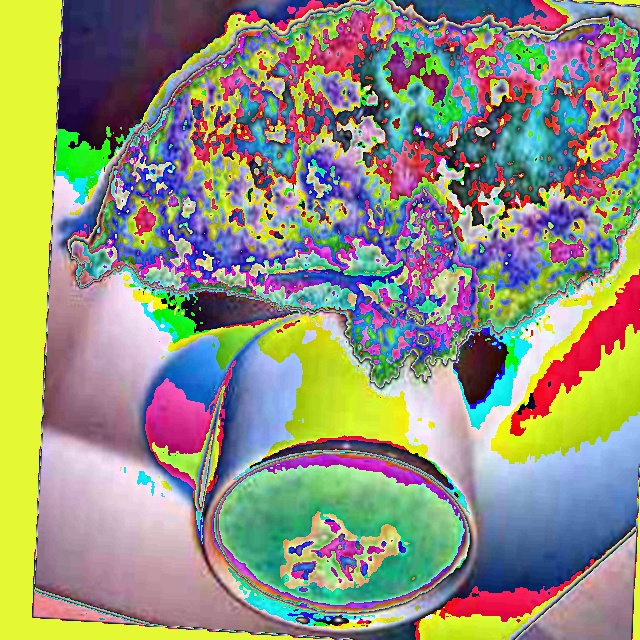background: (70, 0, 639, 391), (219, 164, 466, 615)
